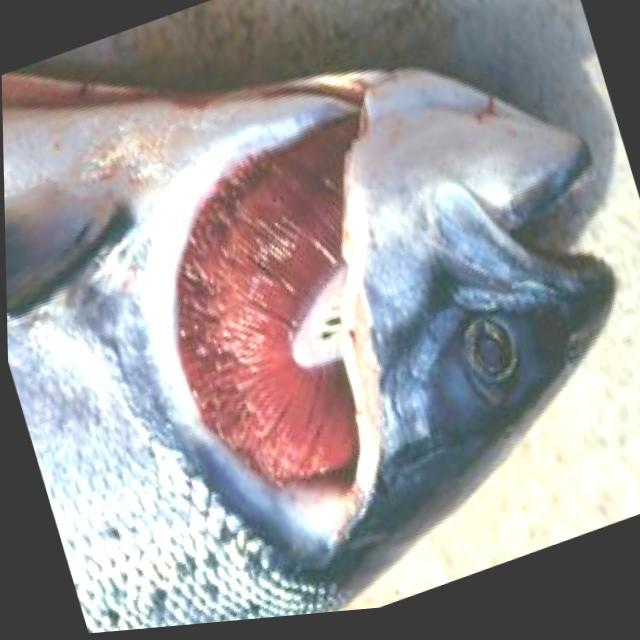Gill Disease: (42, 57, 520, 594)
